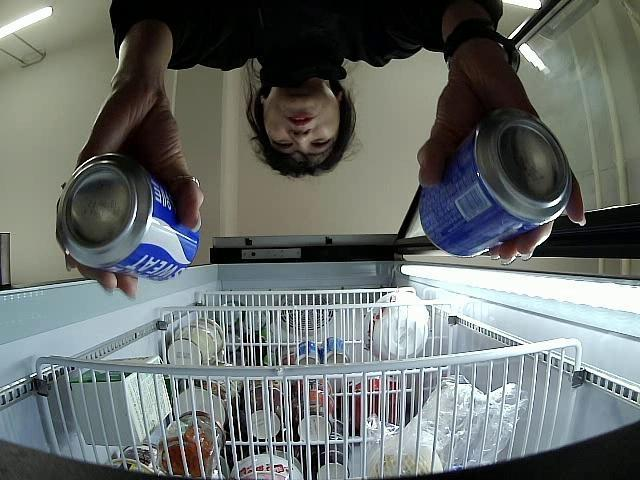13_pocariSweat: (421, 111, 572, 253), (58, 154, 198, 281)
